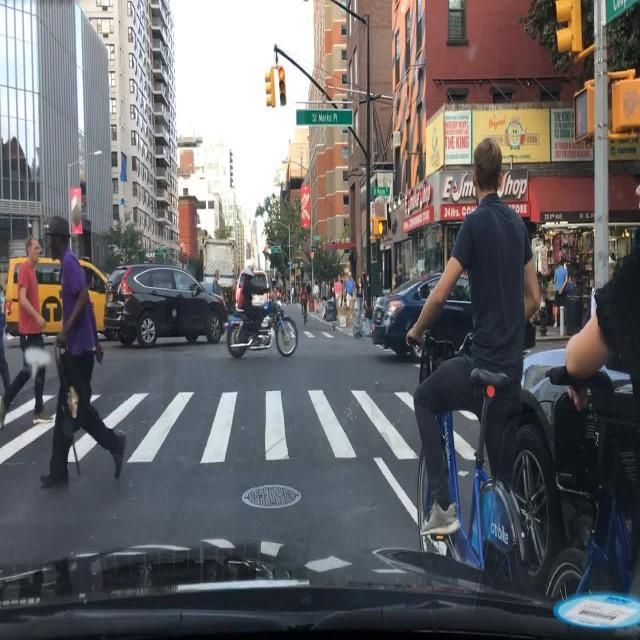normal: (85, 252, 241, 369), (209, 253, 316, 369)
